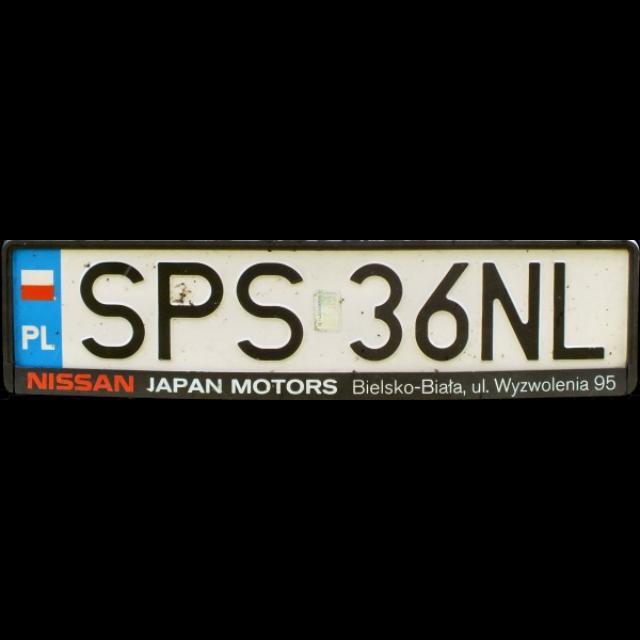license-plates: (2, 241, 640, 400)
